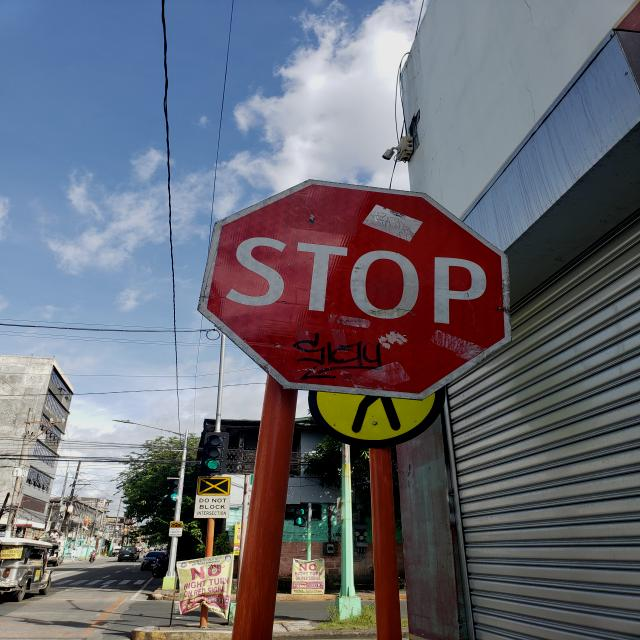stop-sign: (196, 178, 514, 402)
